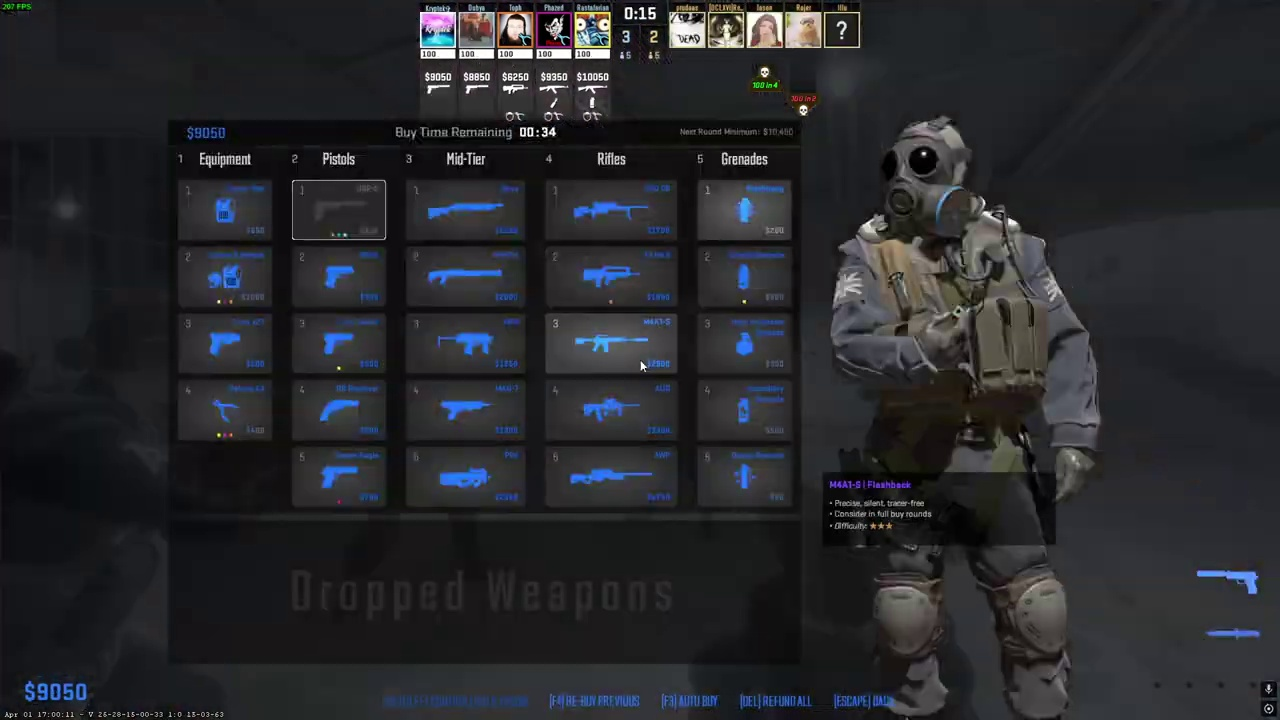CT: (846, 120, 1081, 720)
